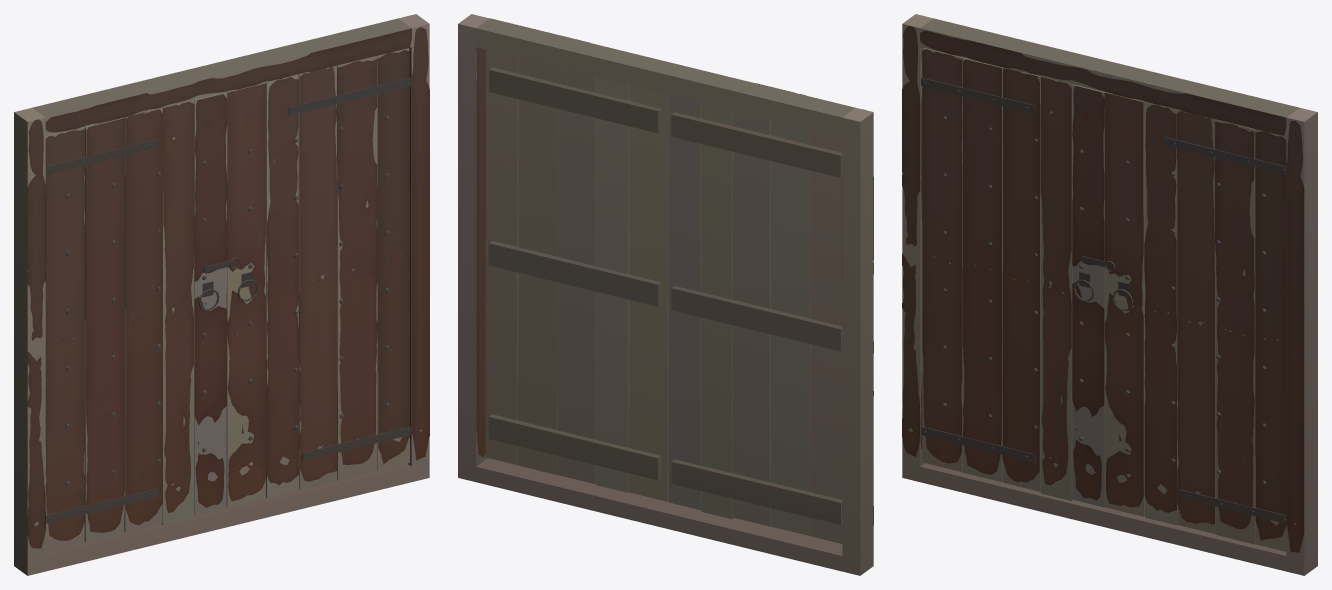
Rendered from painted_wood_panel_b.glb.
The picture shows the model from 3 angles, left to right: view 1: azimuth 30°, elevation 25°; view 2: azimuth 150°, elevation 25°; view 3: azimuth 330°, elevation 25°; orthographic projection.
Visible parts, largest first — view 1: hb_main, hb_wood; view 2: hb_wood, hb_main; view 3: hb_main, hb_wood.
Boxes of the visible parts, x1,y1,x2,y2 form: hb_main: [27, 27, 429, 548]; hb_wood: [14, 14, 429, 575]; hb_wood: [458, 14, 873, 575]; hb_main: [476, 18, 873, 533]; hb_main: [902, 26, 1304, 552]; hb_wood: [902, 14, 1317, 575].
Bounding box in the file's own units: 1.9 × 2.05 × 0.1129.
